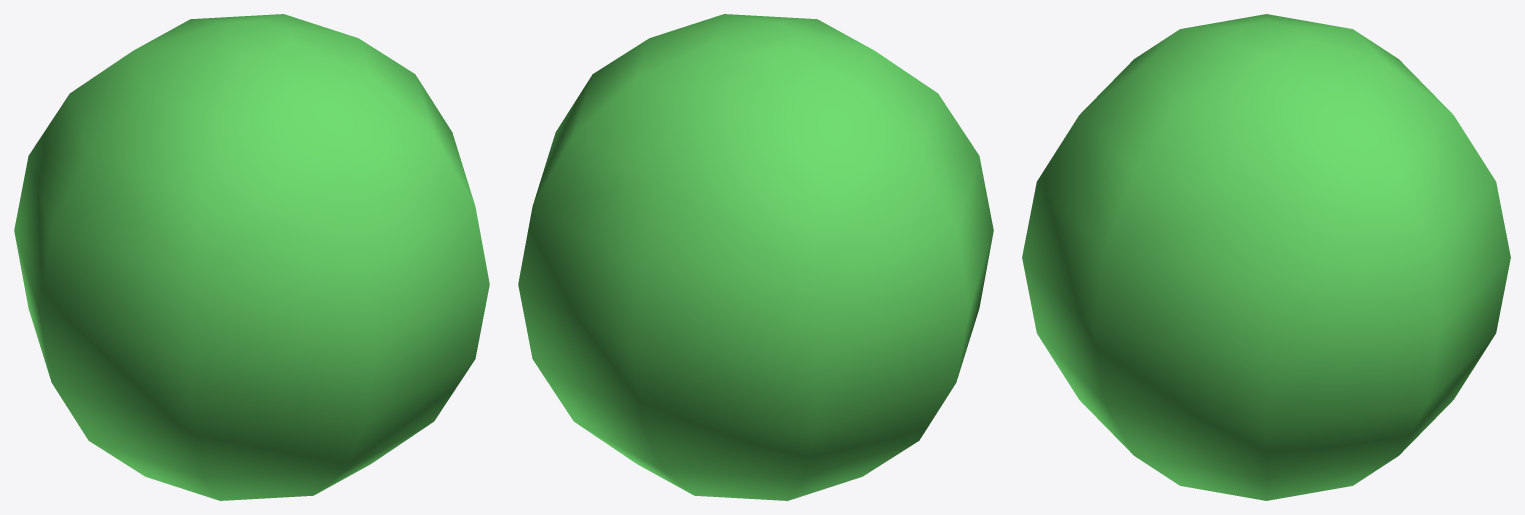
Rendered from dabf.hrc.gltf.
The picture shows the model from 3 angles, left to right: view 1: azimuth 30°, elevation 25°; view 2: azimuth 150°, elevation 25°; view 3: azimuth 270°, elevation 25°; orthographic projection.
Visible parts, largest first — view 1: dabfBone0_null; view 2: dabfBone0_null; view 3: dabfBone0_null.
Boxes of the visible parts, x1,y1,x2,y2 form: dabfBone0_null: [14, 14, 489, 500]; dabfBone0_null: [518, 14, 993, 500]; dabfBone0_null: [1022, 14, 1510, 500].
Bounding box in the file's own units: 4.65 × 4.58 × 4.65.
